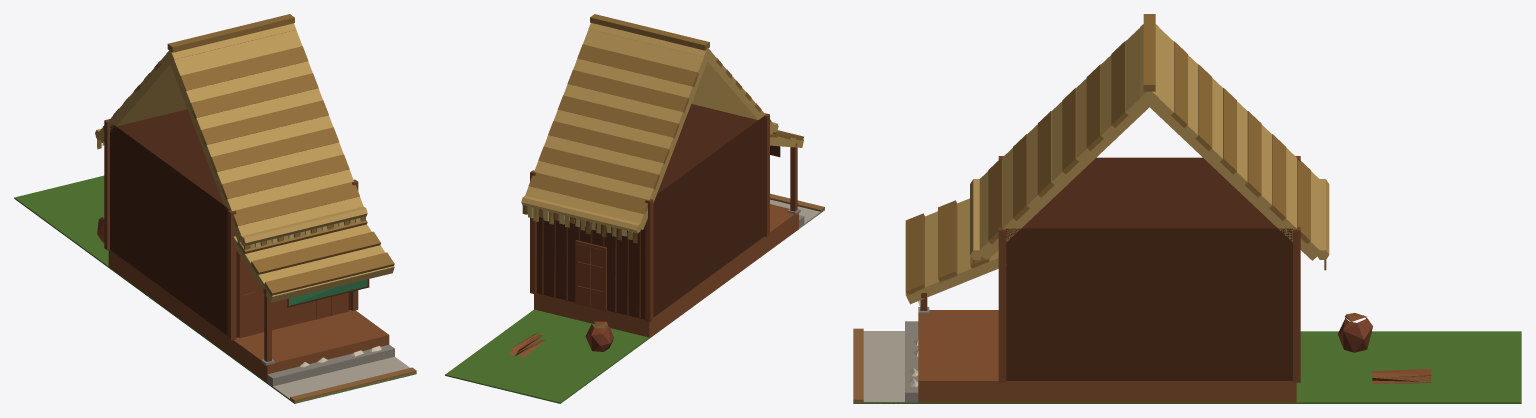
The model's file is bay2_mid2.glb.
3 views of the same model, side by side, from view 1: azimuth 30°, elevation 25°; view 2: azimuth 150°, elevation 25°; view 3: azimuth 270°, elevation 25° (orthographic). The views are drawn at different scales.
Parts seen in each view (by area): view 1: body; view 2: body; view 3: body.
Part boxes in pixels (box(x1,y1,x2,y2)): body: box(14, 14, 416, 403); body: box(445, 14, 824, 403); body: box(853, 14, 1521, 403).
Size of the model in its own units: 4.18 by 8.38 by 15.9.
